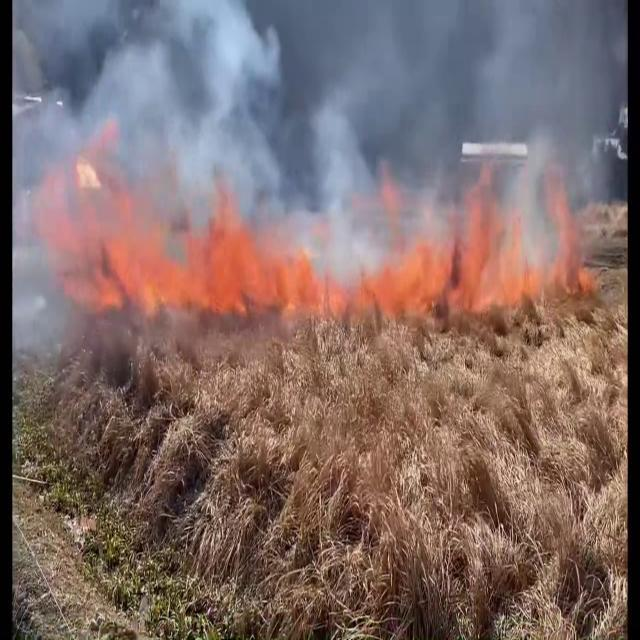Fire: (40, 152, 318, 314), (380, 166, 535, 322), (546, 178, 602, 302)
Smoke: (31, 0, 611, 272)
